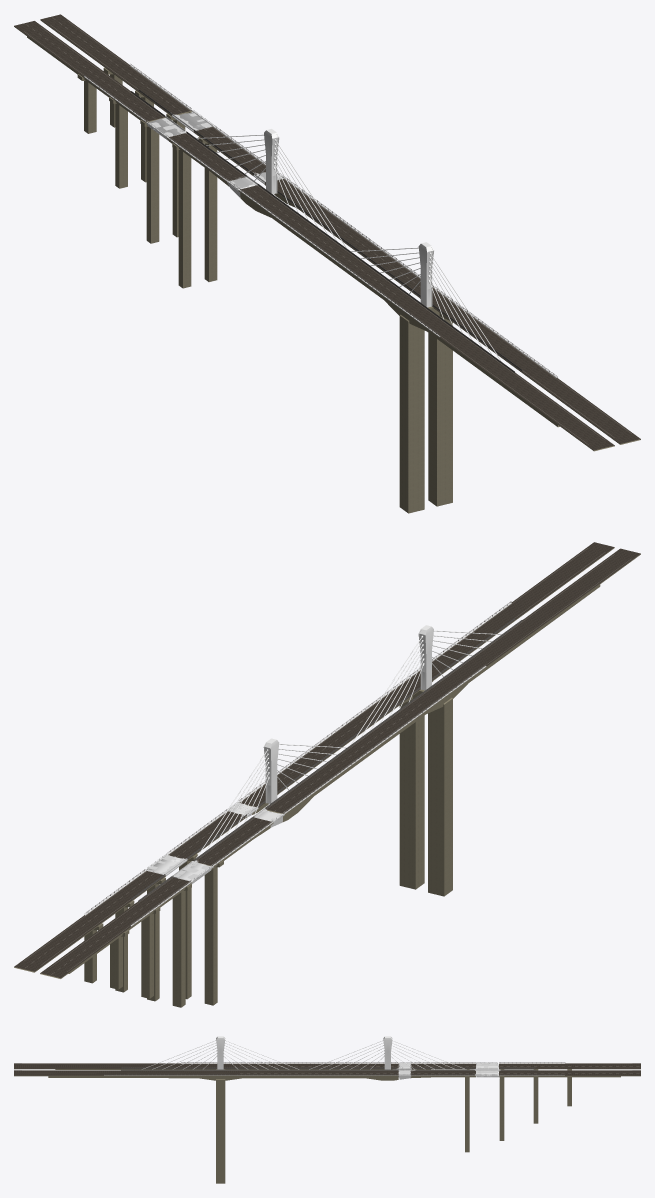
The picture shows the model from 3 angles, top to bottom: view 1: azimuth 30°, elevation 25°; view 2: azimuth 150°, elevation 25°; view 3: azimuth 270°, elevation 25°; orthographic projection. The views are drawn at different scales.
Visible parts, largest first — view 1: Test.001, B1.001, B1.005; view 2: Test.001, B1.001, B1.005; view 3: Test.001, B1.001, B1.005.
Boxes of the visible parts, left/top/right/bottom form: Test.001: left=248, top=139, right=640, bottom=513; B1.001: left=14, top=14, right=294, bottom=288; B1.005: left=264, top=129, right=279, bottom=194; Test.001: left=249, top=542, right=640, bottom=896; B1.001: left=14, top=749, right=294, bottom=1007; B1.005: left=263, top=738, right=279, bottom=803; Test.001: left=14, top=1036, right=387, bottom=1183; B1.001: left=387, top=1040, right=640, bottom=1152; B1.005: left=383, top=1036, right=392, bottom=1069.
Bounding box in the file's own units: 36.27 × 192 × 775.
